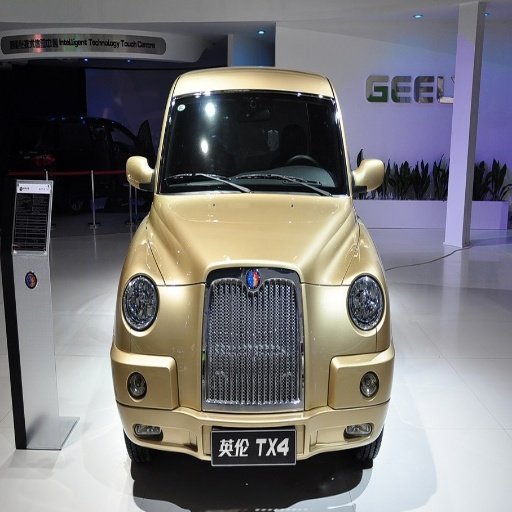front_bumper: (111, 268, 392, 465)
hood: (156, 195, 359, 285)
left_mirror: (352, 155, 386, 198)
